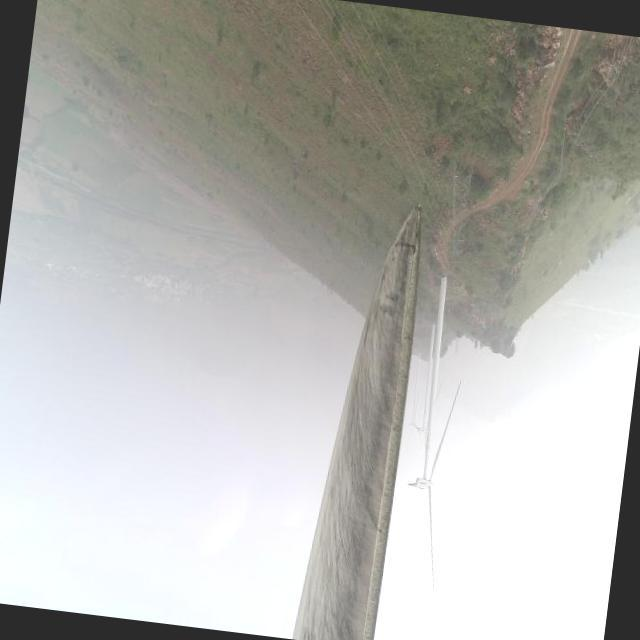Dirt: (290, 202, 423, 640)
